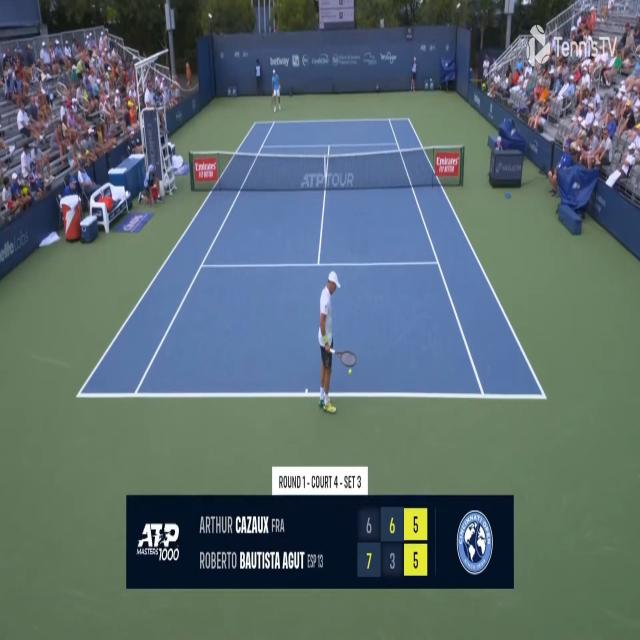tennis-player: (315, 266, 358, 417), (270, 66, 282, 114)
